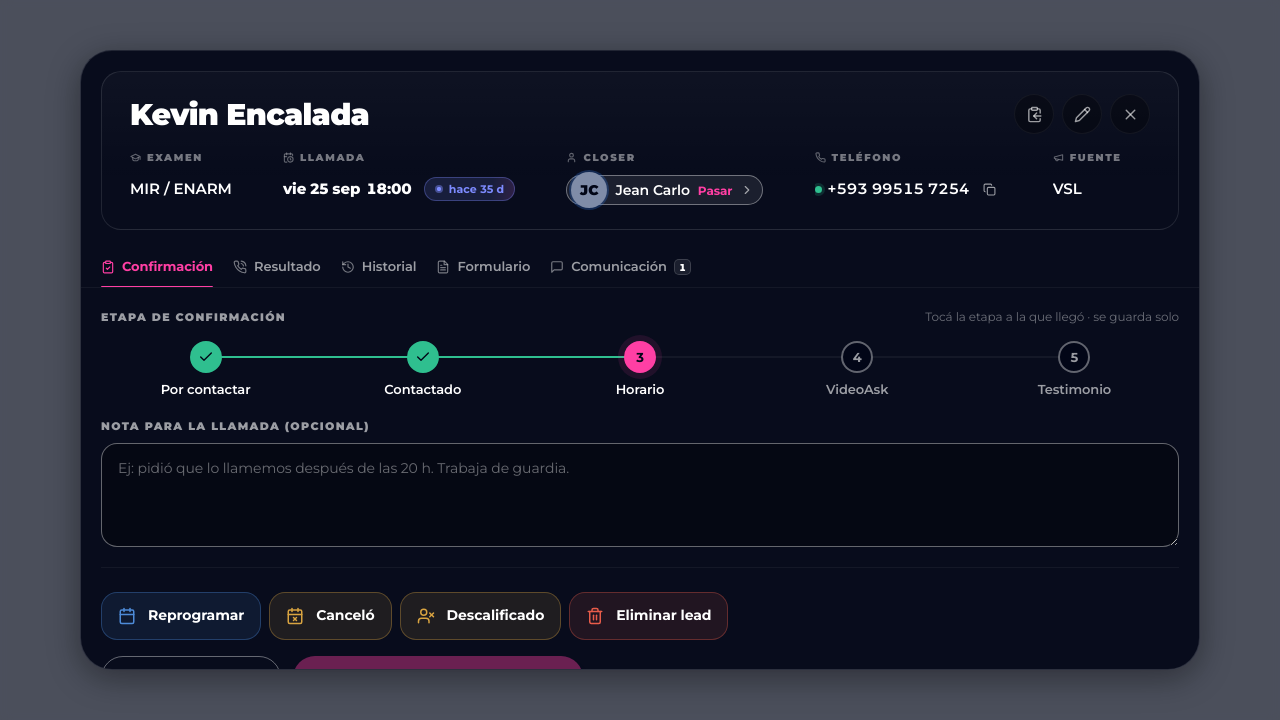
la fuente en modo edición › elegir otra la manda sola, por el mismo PATCH de los datos
Check: the tab "Confirmación" is shown, box [101,246,213,287]
Click the button named "Editar los datos del lead".
click(1082, 114)  # box [1062,94,1102,134]
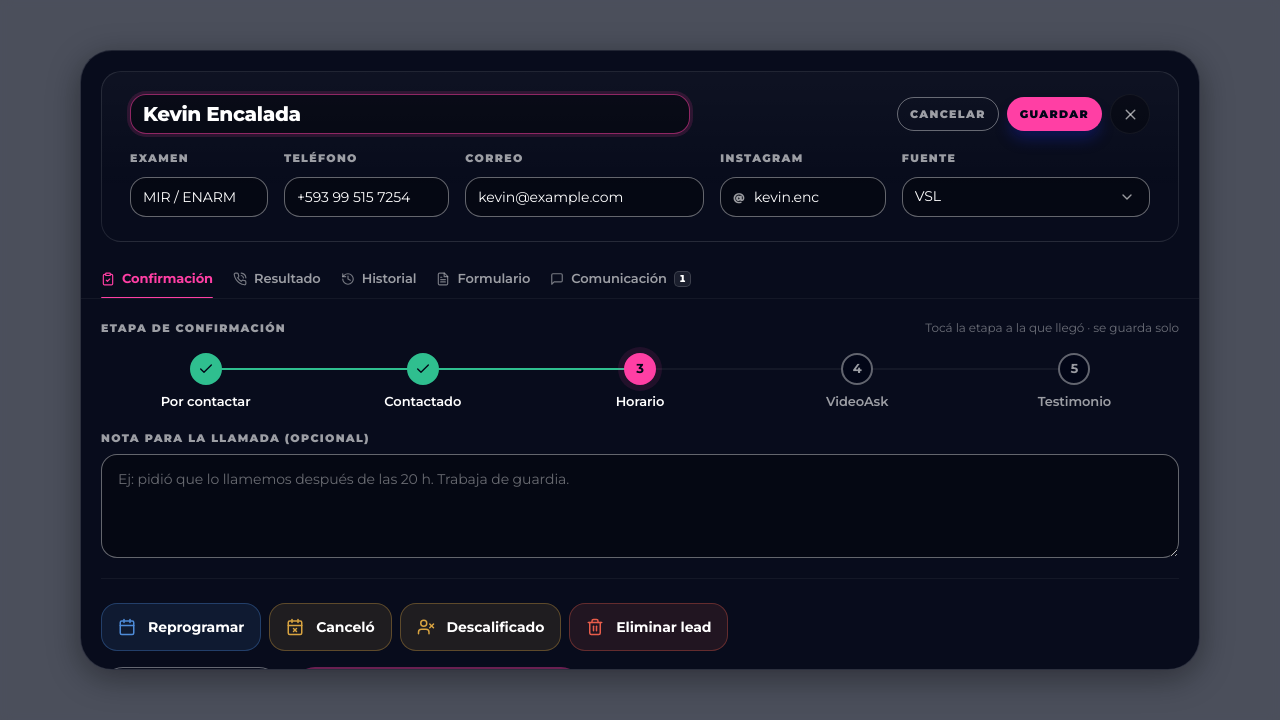
Select "Workshop" in the dropdown labelled "Fuente" at (1026, 197), box [915,178,1137,216]
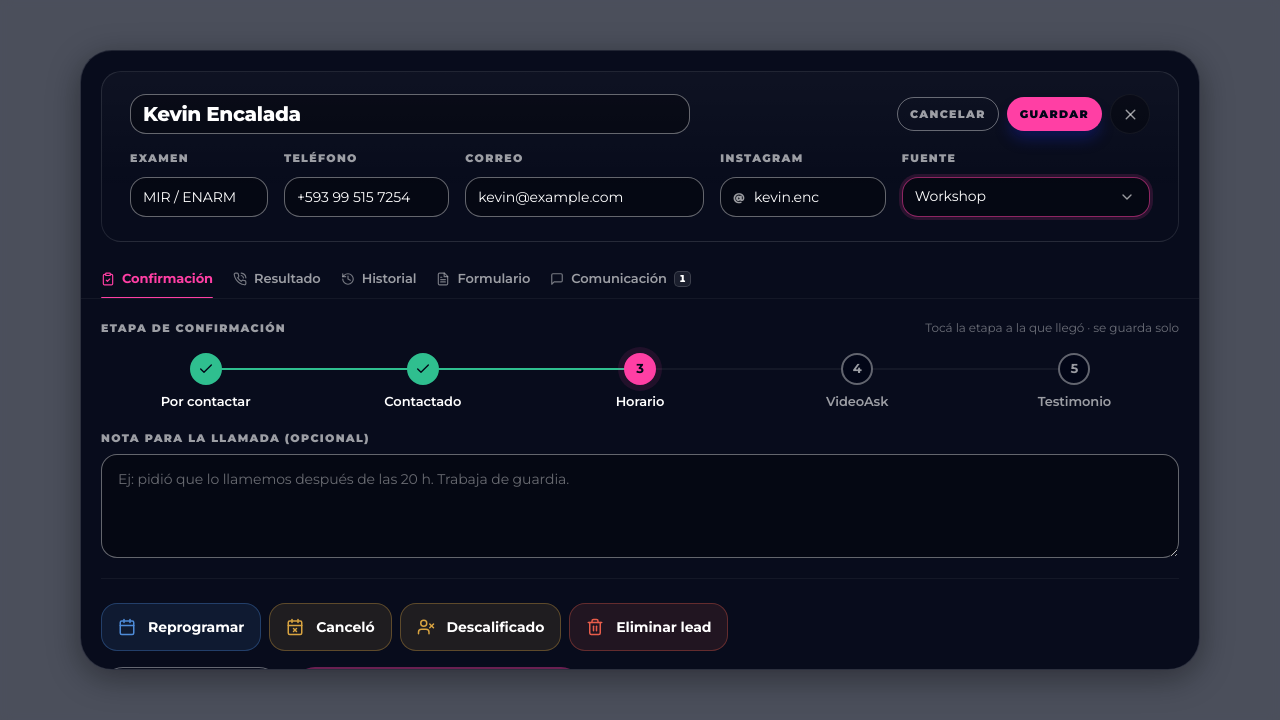
Click the button "Guardar".
click(1054, 114)  # box [1007,97,1102,131]
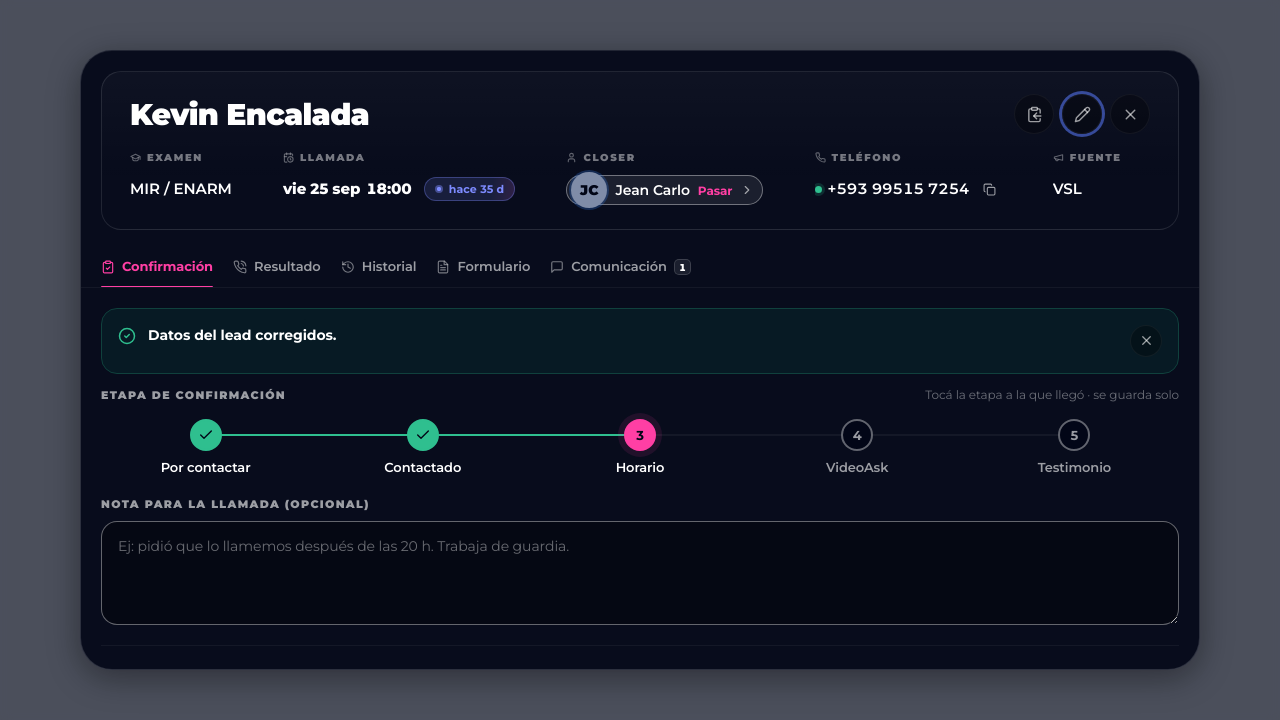
Check: the text "Datos del lead corregidos." is shown, box [148,326,336,344]
